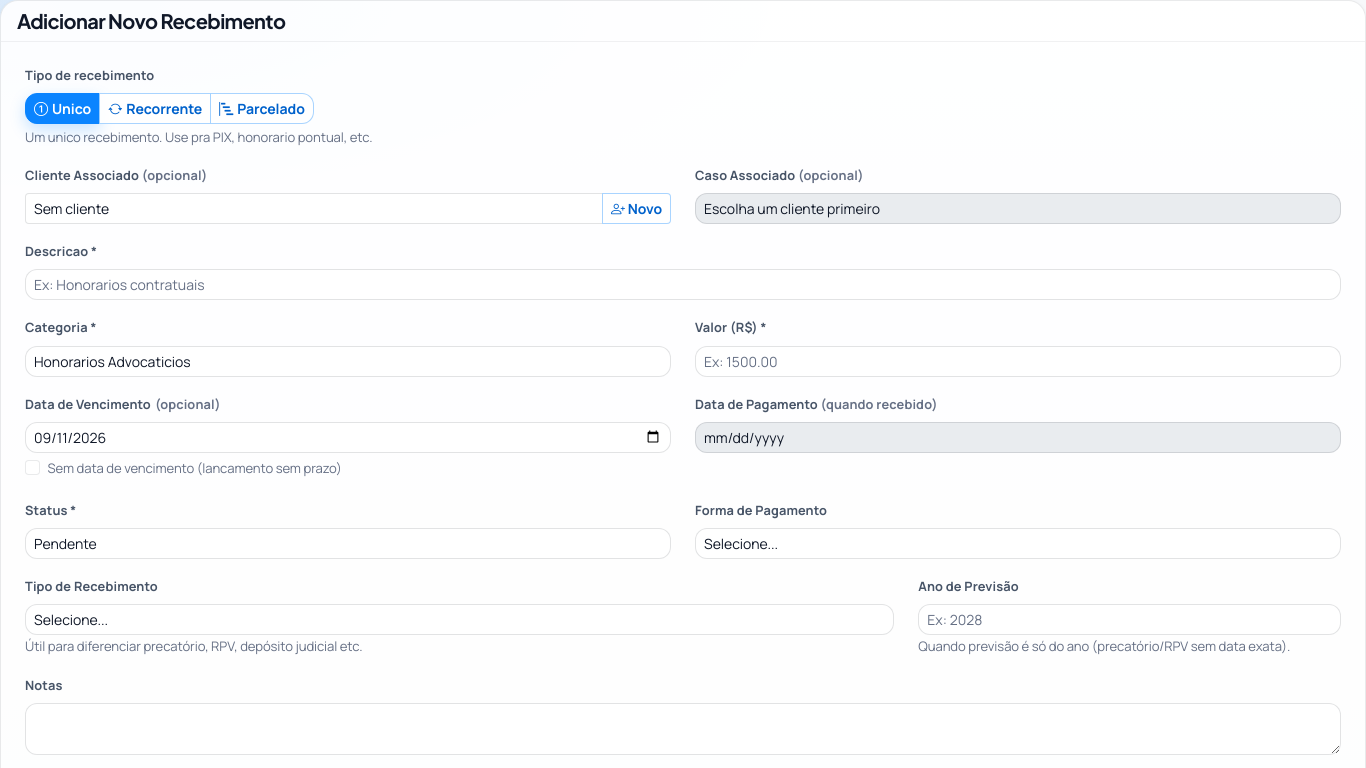
RecebimentoForm robusto (Fase 2) › permite salvar recebimento UNICO sem cliente e abre modal pos-save
Type "PIX recebido" into the field labelled "Descricao *" at {"x": 683, "y": 285}, box [25,269,1341,300]
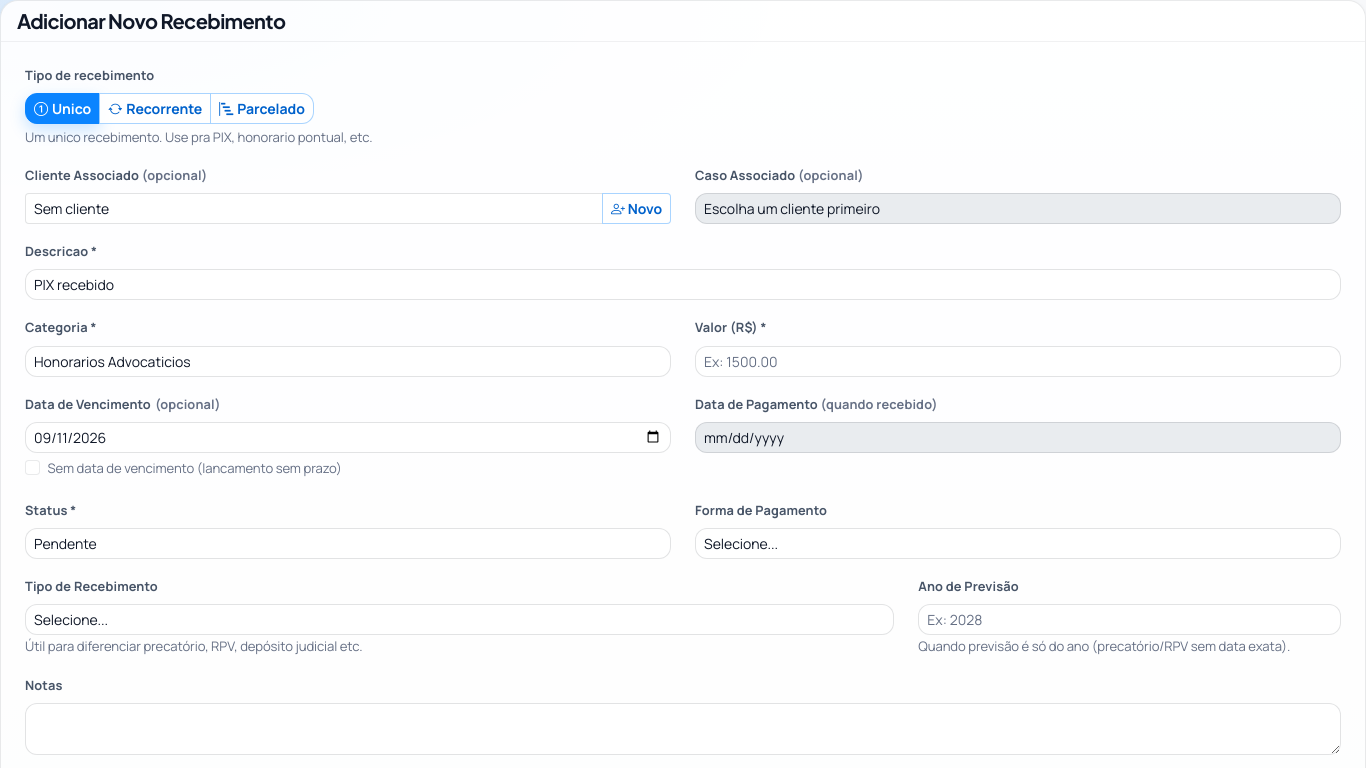
Type "500.00" into the number field labelled "Valor (R$) *" at {"x": 1018, "y": 361}, box [695,346,1341,376]
(page scrolled)
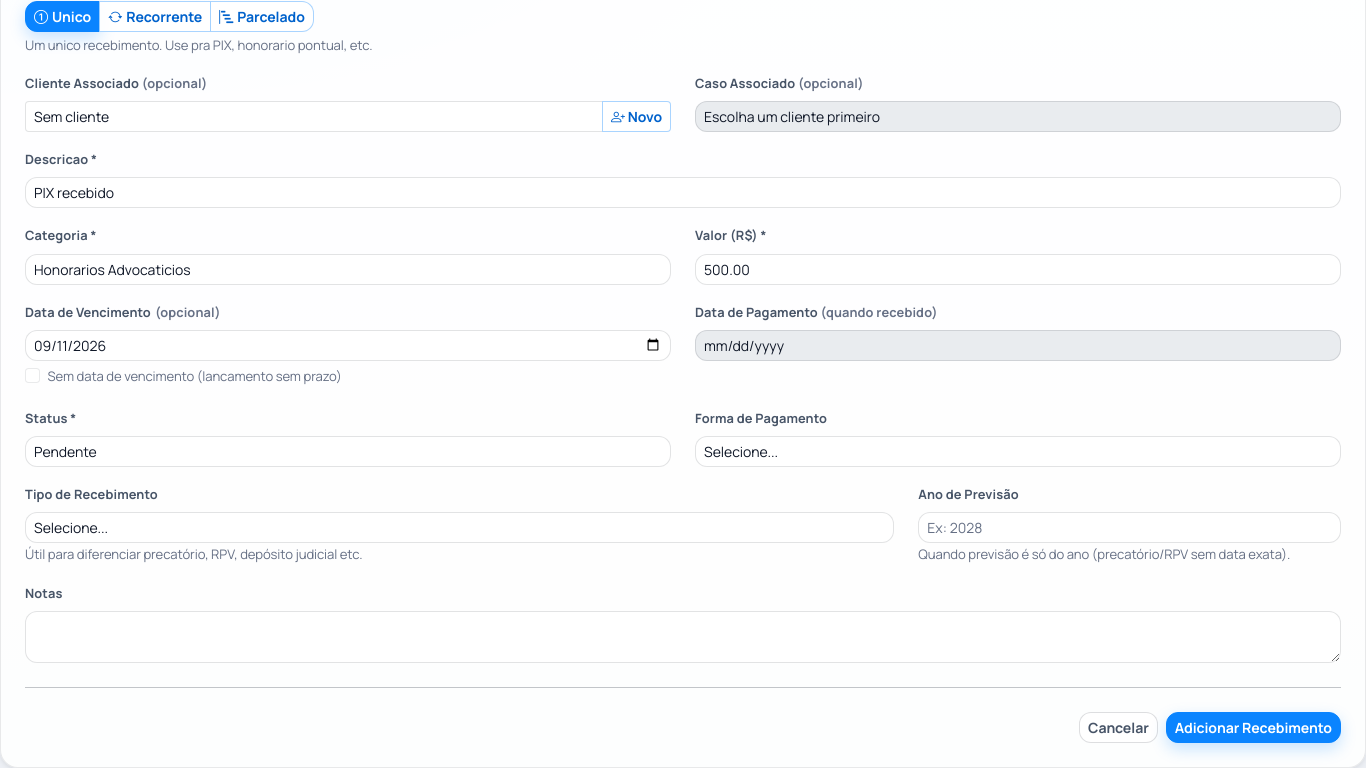
Click the button "Adicionar Recebimento" at {"x": 1253, "y": 727}, box [1166,712,1341,743]
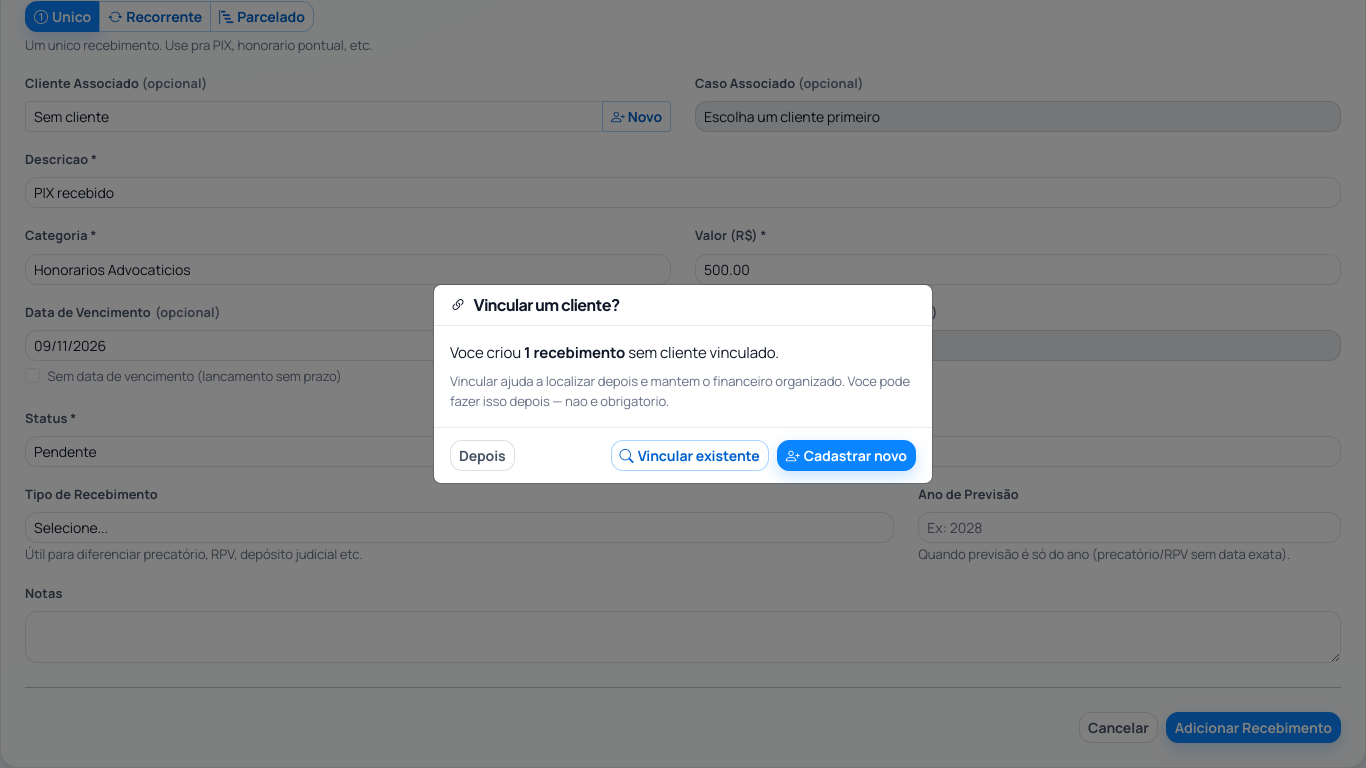
Expected: the heading "Vincular um cliente?" is shown, [450,292,620,316]
Expected: the button "Cadastrar novo" is shown, [777,440,916,472]
Expected: the button "Depois" is shown, [450,440,515,472]
